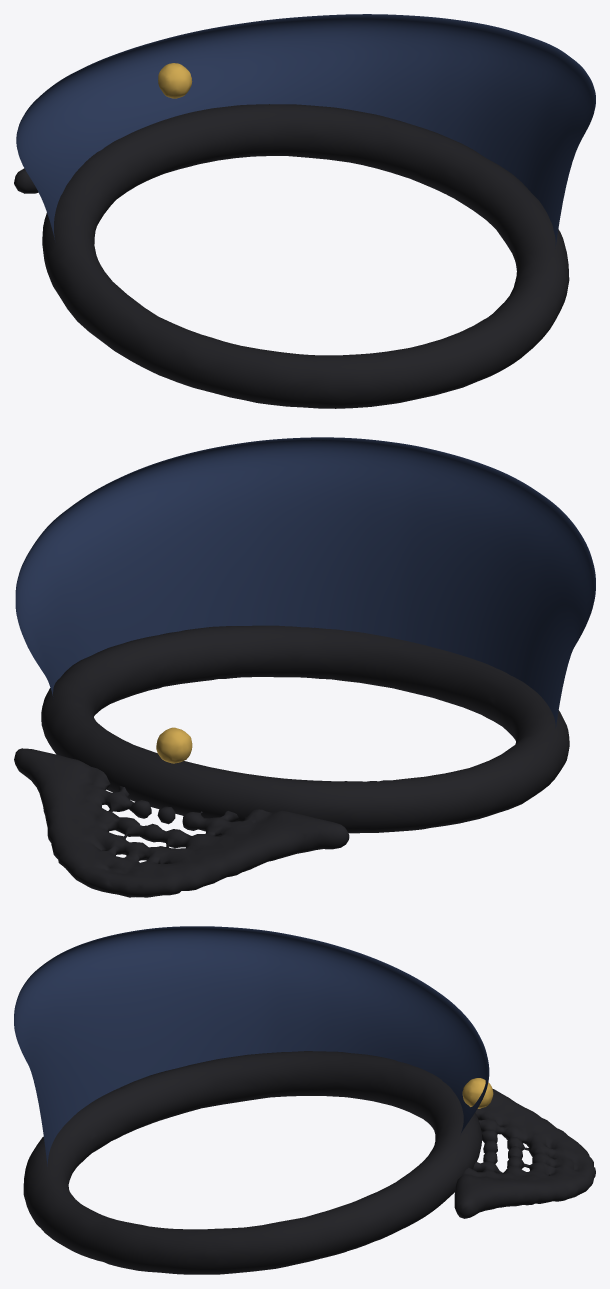
The model's file is cap_driver_m.glb.
The picture shows the model from 3 angles, top to bottom: view 1: azimuth 30°, elevation 25°; view 2: azimuth 150°, elevation 25°; view 3: azimuth 270°, elevation 25°; orthographic projection. The views are drawn at different scales.
Parts seen in each view (by area): view 1: Acc_cap_driver_CapBand, Acc_cap_driver_Cap, Acc_cap_driver_CapBadge; view 2: Acc_cap_driver_Cap, Acc_cap_driver_CapBand, Acc_cap_driver_CapVisor, Acc_cap_driver_CapBadge; view 3: Acc_cap_driver_Cap, Acc_cap_driver_CapBand, Acc_cap_driver_CapVisor, Acc_cap_driver_CapBadge.
Boxes of the visible parts, x1,y1,x2,y2 form: Acc_cap_driver_CapBand: [42, 104, 569, 408]; Acc_cap_driver_Cap: [16, 14, 595, 248]; Acc_cap_driver_CapBadge: [158, 63, 192, 98]; Acc_cap_driver_Cap: [15, 437, 595, 728]; Acc_cap_driver_CapBand: [41, 625, 569, 833]; Acc_cap_driver_CapVisor: [14, 748, 349, 897]; Acc_cap_driver_CapBadge: [156, 727, 192, 763]; Acc_cap_driver_Cap: [14, 926, 489, 1166]; Acc_cap_driver_CapBand: [23, 1051, 482, 1274]; Acc_cap_driver_CapVisor: [454, 1088, 595, 1218]; Acc_cap_driver_CapBadge: [462, 1078, 493, 1108].
Bounding box in the file's own units: 0.407 × 0.1791 × 0.4677.
